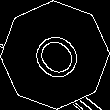O_SE: (22, 22, 88, 88)
